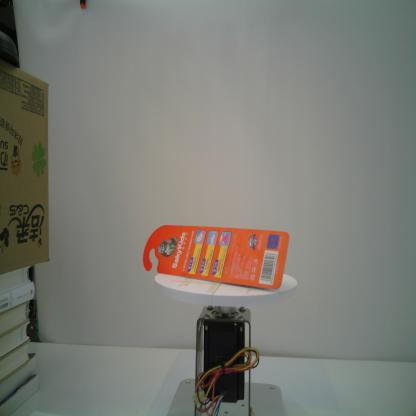Personal Hygiene: (143, 225, 290, 290)
